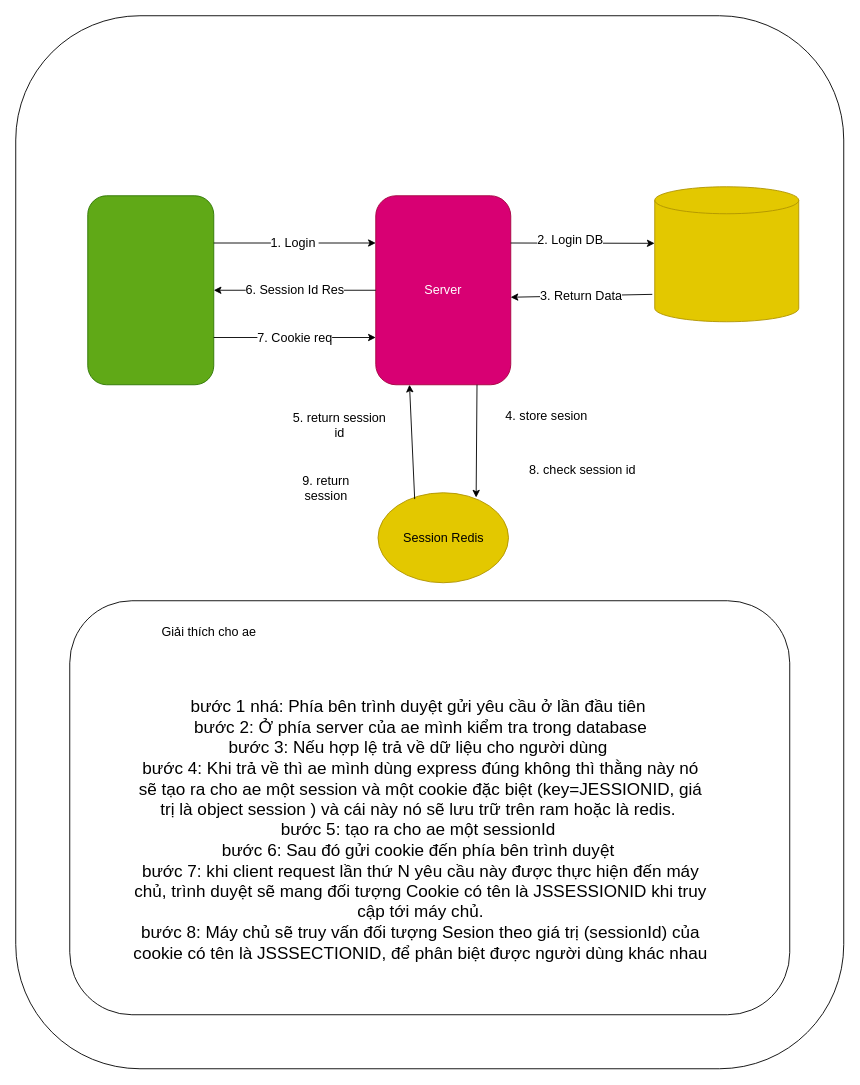
Image size: 860x1085. Some labels were removed from this diagram. Here are the shapes that lost their labels. From the top down, the box of each, then its label:
(654, 186, 799, 322): Database
(87, 195, 214, 385): Client
